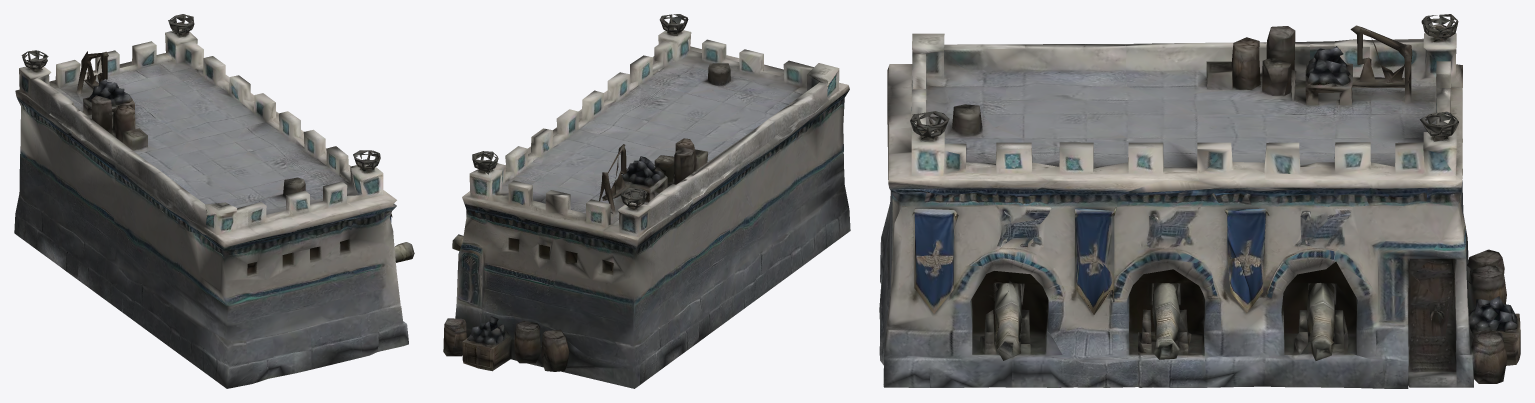
File: cannon_house_1.glb
3 renders of one model, left to right at view 1: azimuth 30°, elevation 25°; view 2: azimuth 150°, elevation 25°; view 3: azimuth 270°, elevation 25°, orthographic. The views are drawn at different scales.
Parts seen in each view (by area): view 1: tripo_node_05ac0c80-fc63-433e-8f63-a4c4b4e3a69f; view 2: tripo_node_05ac0c80-fc63-433e-8f63-a4c4b4e3a69f; view 3: tripo_node_05ac0c80-fc63-433e-8f63-a4c4b4e3a69f.
Boxes of the visible parts, left/top/right/bottom form: tripo_node_05ac0c80-fc63-433e-8f63-a4c4b4e3a69f: left=14, top=14, right=414, bottom=388; tripo_node_05ac0c80-fc63-433e-8f63-a4c4b4e3a69f: left=443, top=14, right=850, bottom=388; tripo_node_05ac0c80-fc63-433e-8f63-a4c4b4e3a69f: left=879, top=14, right=1520, bottom=388.
Size of the model in its own units: 0.5601 by 0.4663 by 0.9801.
Materials: 1 (1 with a texture image).
